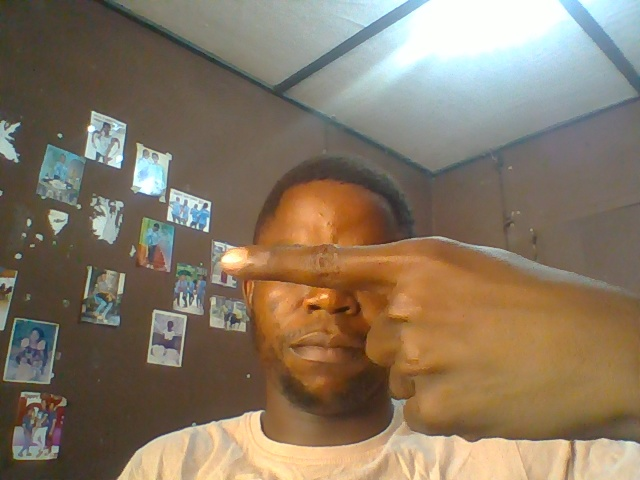Right: (216, 227, 624, 445)
